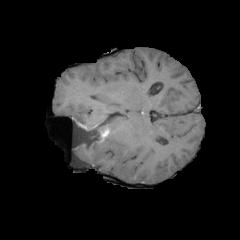glioma: (70, 102, 129, 154)
